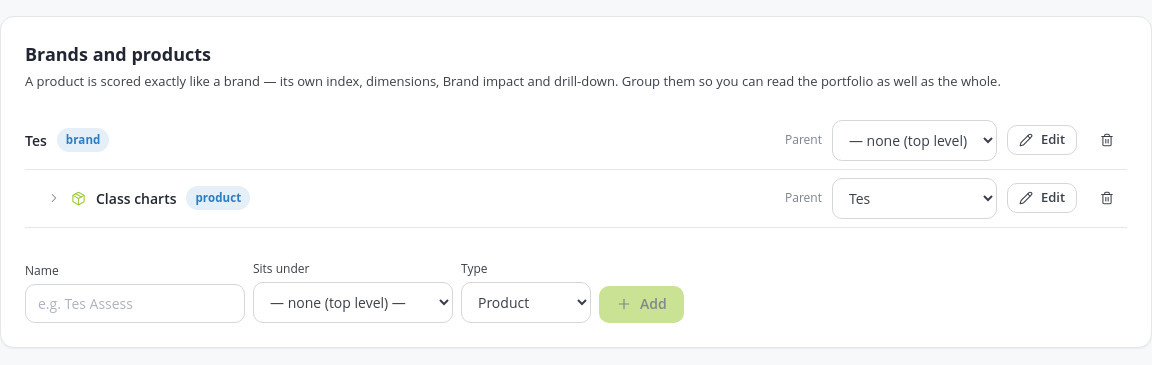
Test case: editing › opens an editor pre-filled with the current values
The width and height of the screenshot is (1152, 365).
Expected: the list item "Class charts" is shown, [96,188,176,208]
Click the button "Edit" in the row of "Class charts": click(1042, 198) [1007,183,1077,213]
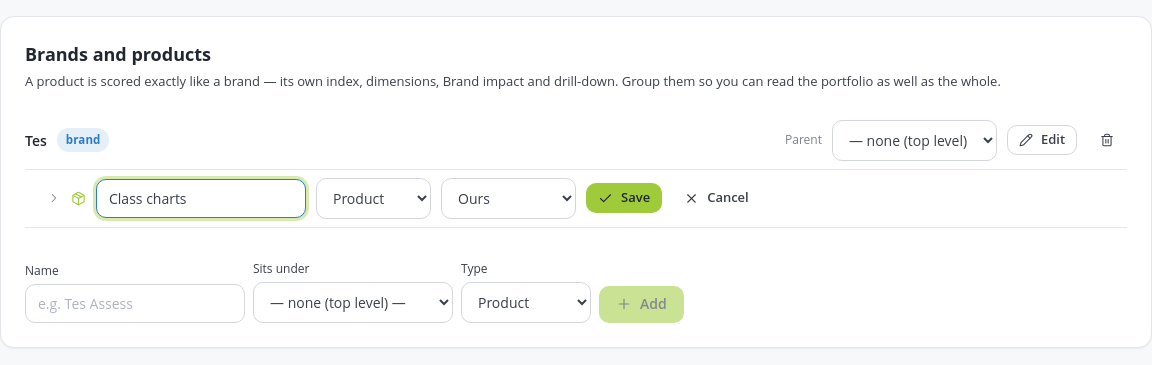
Now the field named "Name of Class charts" holds "Class charts", box [96,178,306,218]
Now the dropdown named "Type of Class charts" shows "Product", box [316,178,431,218]
Now the dropdown named "Ownership of Class charts" shows "Ours", box [441,178,576,218]
